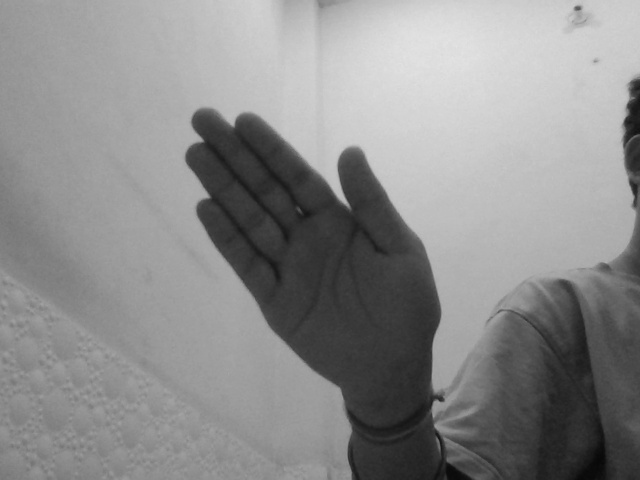Hello: (178, 105, 447, 394)
